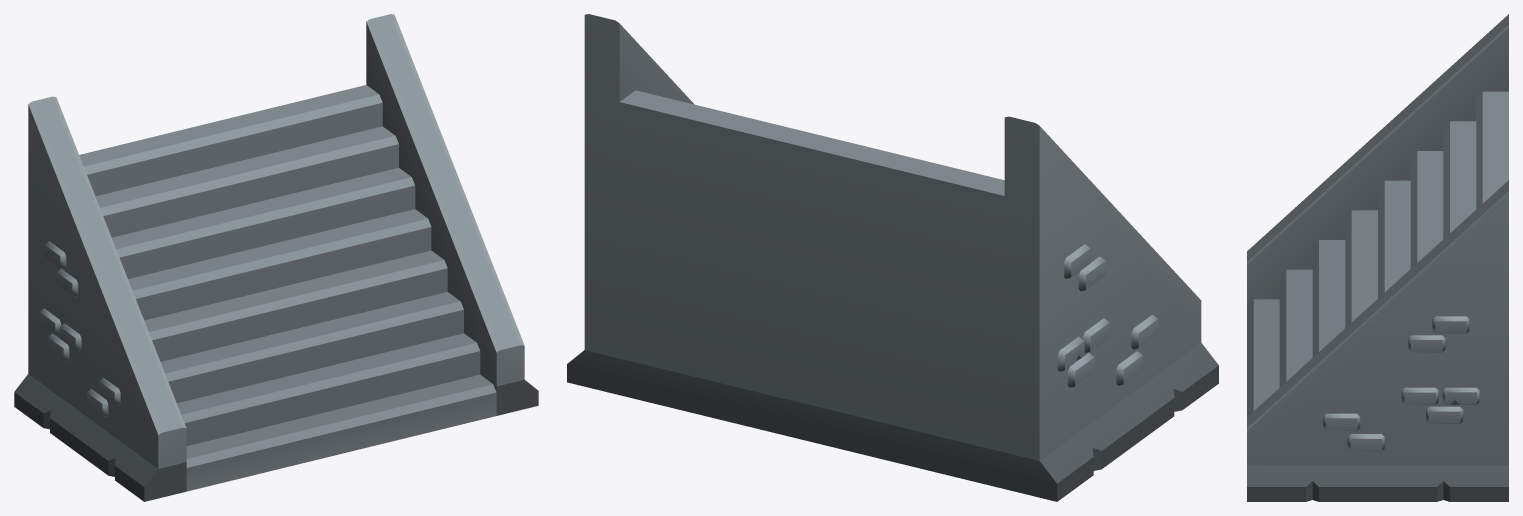
File: stairs_wide.gltf
3 views of the same model, side by side, from view 1: azimuth 30°, elevation 25°; view 2: azimuth 150°, elevation 25°; view 3: azimuth 270°, elevation 25° (orthographic). The views are drawn at different scales.
Parts seen in each view (by area): view 1: stairs_wide; view 2: stairs_wide; view 3: stairs_wide.
Boxes of the visible parts, left/top/right/bottom form: stairs_wide: left=14, top=14, right=538, bottom=501; stairs_wide: left=567, top=14, right=1218, bottom=501; stairs_wide: left=1247, top=14, right=1508, bottom=501.
Size of the model in its own units: 7 by 5.1 by 4.
Materials: 1 (1 with a texture image).
